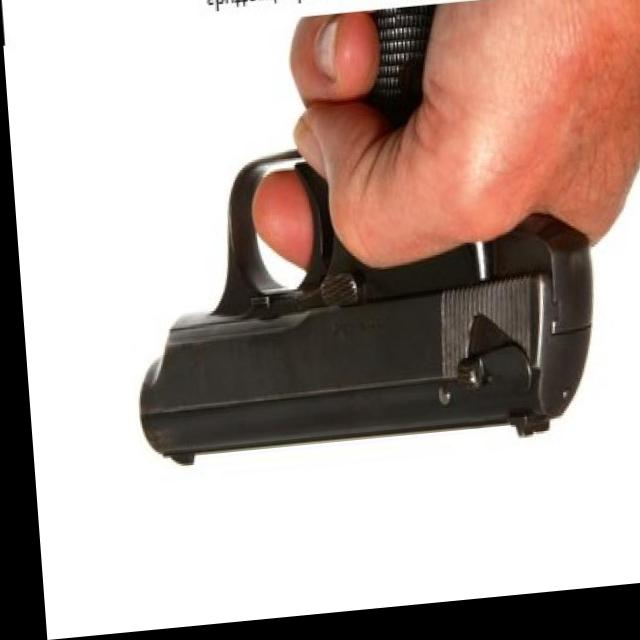handgun: (111, 4, 596, 480)
